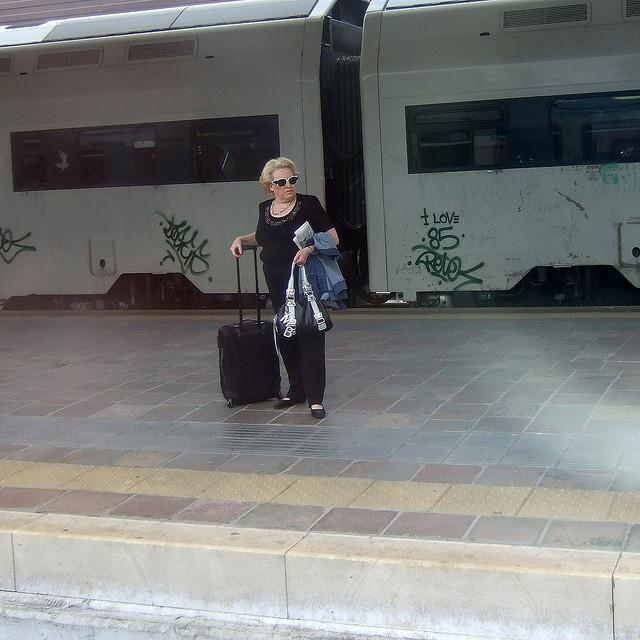Train: (0, 1, 640, 312)
